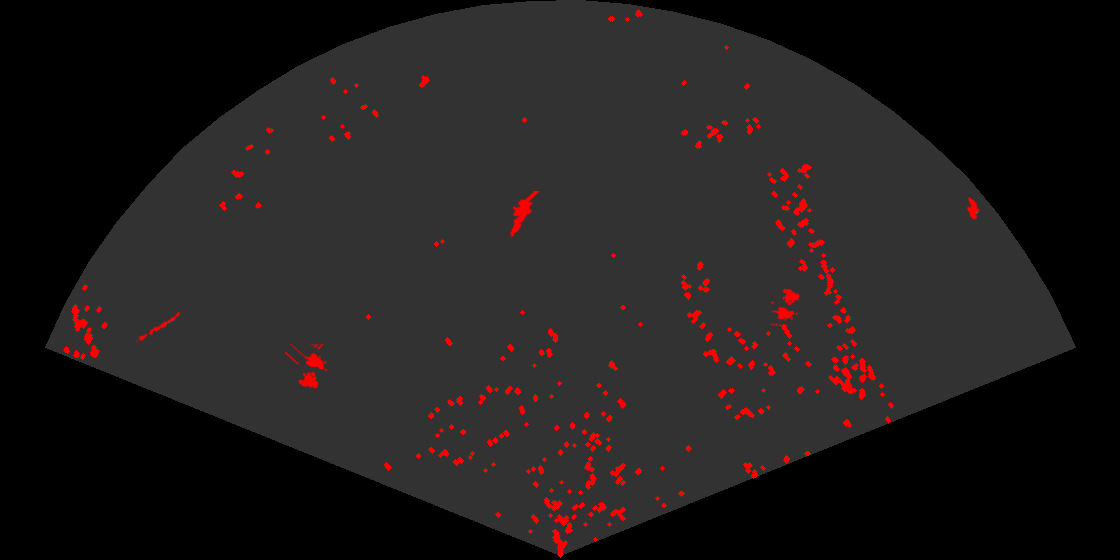AUV: (965, 195, 981, 222)
cage: (285, 344, 329, 390), (771, 287, 801, 326)
chain: (136, 309, 187, 344)
frogman: (506, 191, 542, 239)
